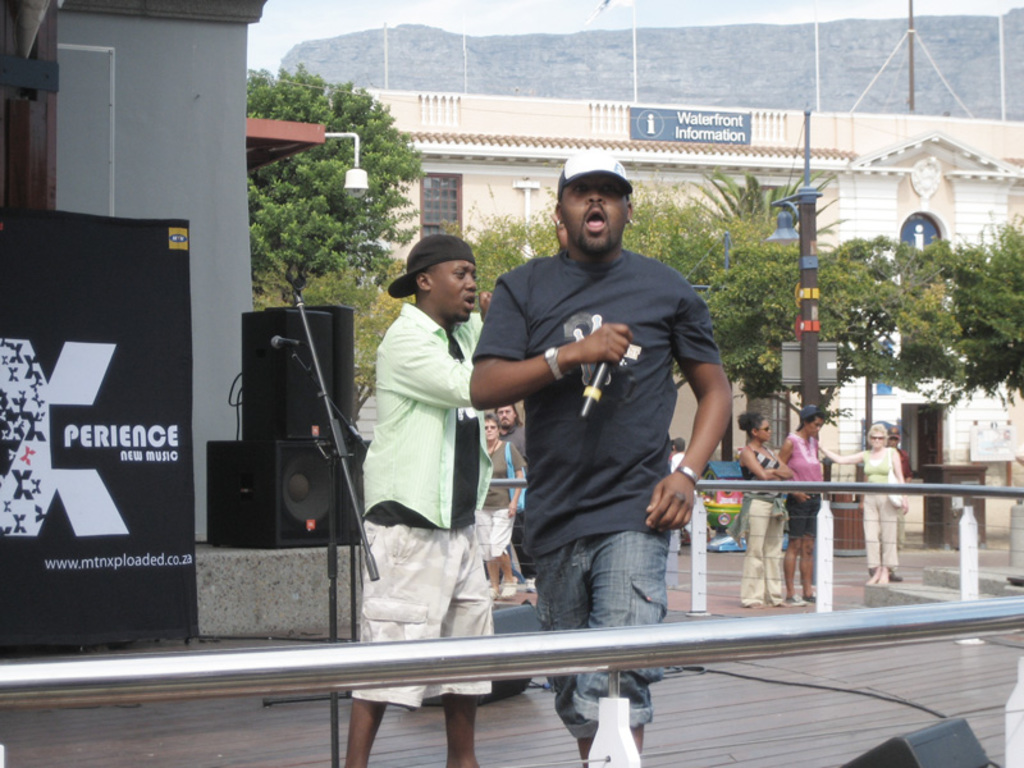Footwear: (776, 590, 806, 609), (873, 568, 895, 590), (801, 585, 815, 604)
